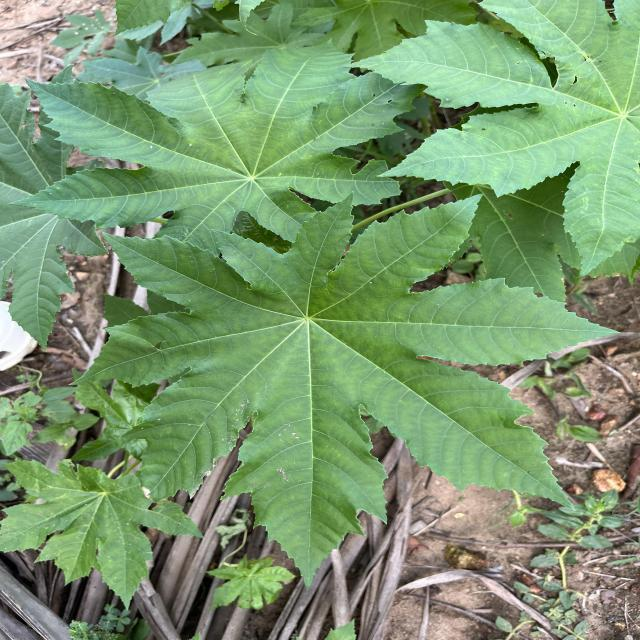Ricinus communis linn: (65, 188, 628, 594)
